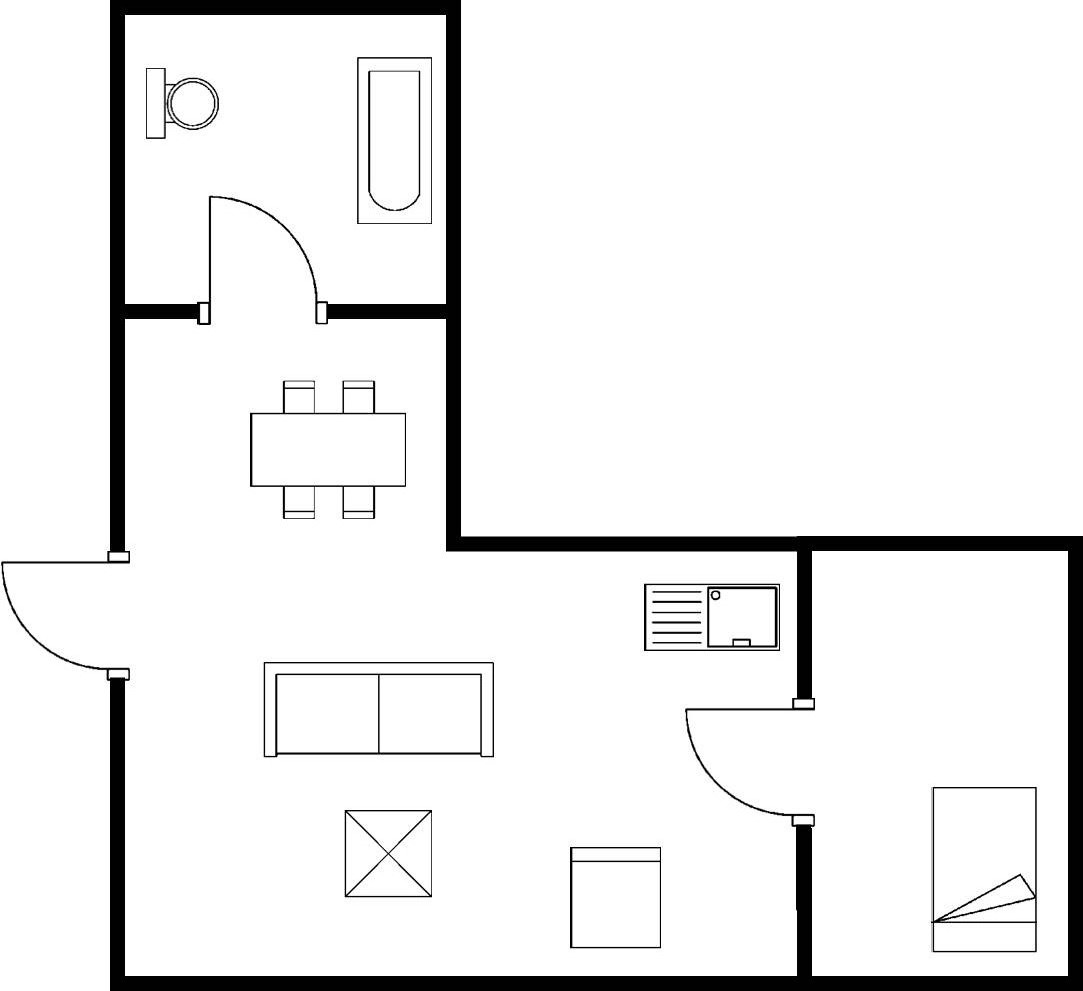bed: (927, 782, 1042, 958)
coffee_table: (340, 805, 438, 903)
dining_table: (245, 375, 415, 529)
large_sink: (141, 62, 223, 148)
large_sofa: (258, 658, 498, 762)
sink: (638, 578, 785, 660)
small_sofa: (565, 843, 668, 954)
tub: (352, 50, 439, 232)
